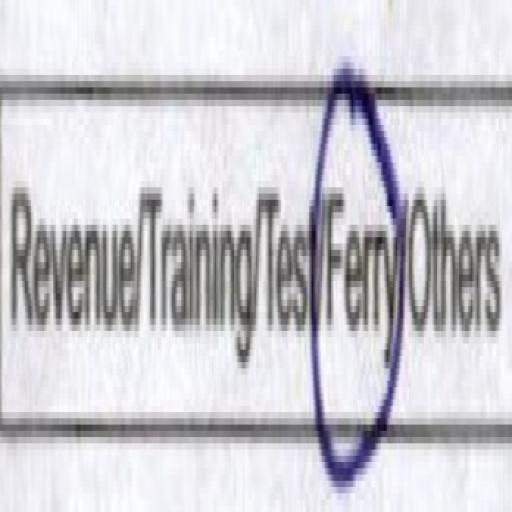check: (312, 27, 408, 510)
